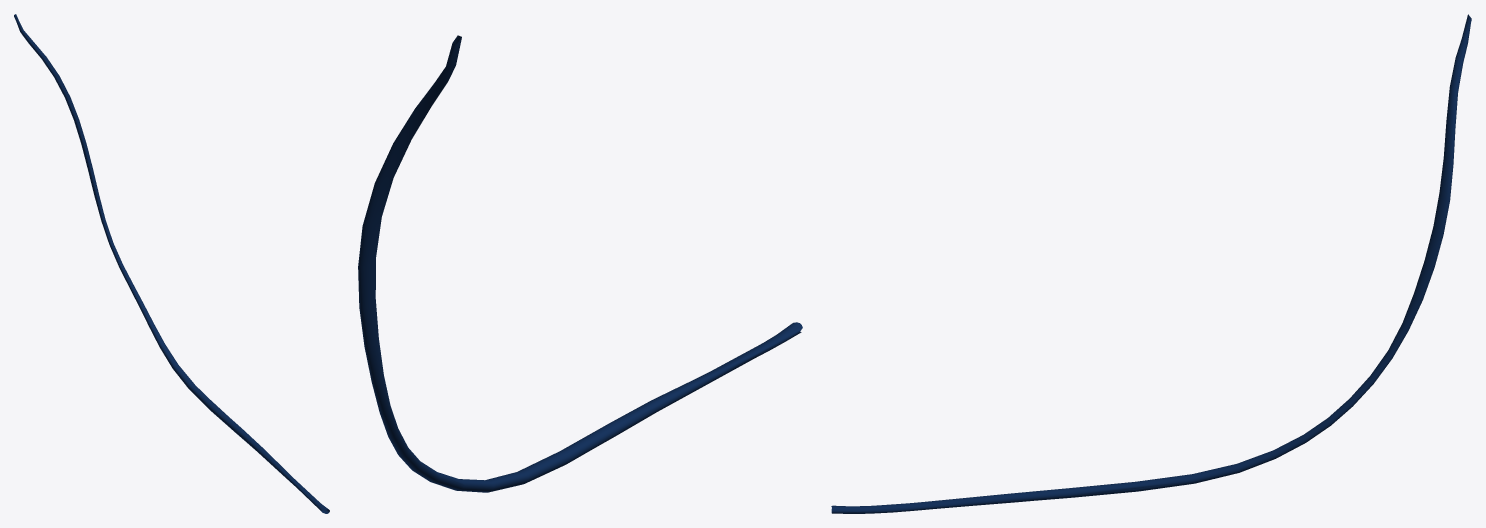
The model's file is R vena epigastrica cranialis.fbx.
The picture shows the model from 3 angles, left to right: view 1: azimuth 30°, elevation 25°; view 2: azimuth 150°, elevation 25°; view 3: azimuth 270°, elevation 25°; orthographic projection. The views are drawn at different scales.
Visible parts, largest first — view 1: R vena epigastrica cranialis, R vena epigastrica cranialis low; view 2: R vena epigastrica cranialis, R vena epigastrica cranialis low; view 3: R vena epigastrica cranialis, R vena epigastrica cranialis low.
Part boxes in pixels (<box>): R vena epigastrica cranialis: <box>14,14,329,513</box>; R vena epigastrica cranialis low: <box>14,14,329,513</box>; R vena epigastrica cranialis: <box>358,36,802,492</box>; R vena epigastrica cranialis low: <box>358,35,802,488</box>; R vena epigastrica cranialis: <box>831,15,1471,513</box>; R vena epigastrica cranialis low: <box>831,14,1469,513</box>.
Size of the model in its own units: 8.52 by 35.22 by 45.21.
